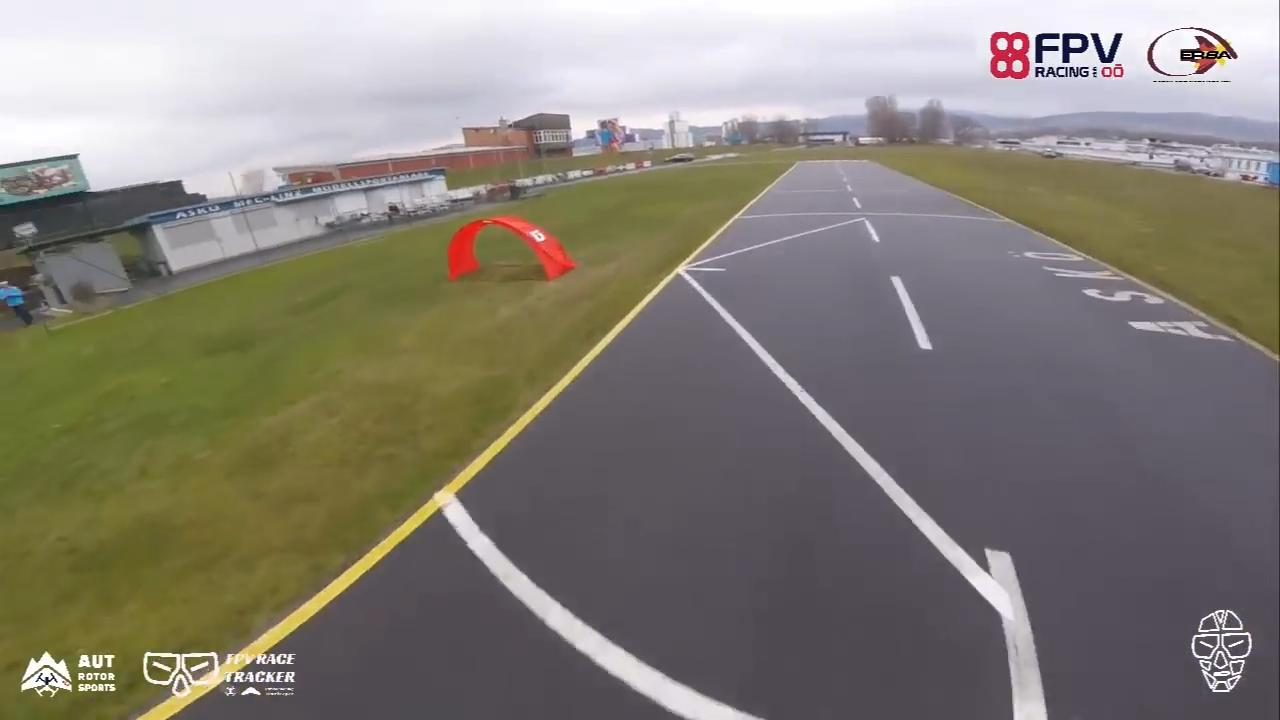gate: (444, 216, 575, 283)
